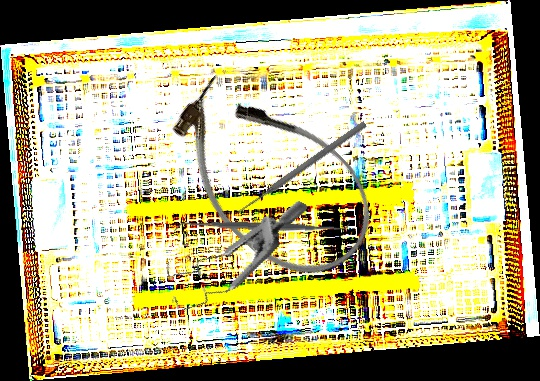Cannula: (145, 54, 397, 303)
Pusher: (235, 119, 368, 217)
Spatula Surgical: (173, 213, 351, 240)
Speculum: (151, 162, 309, 341)
